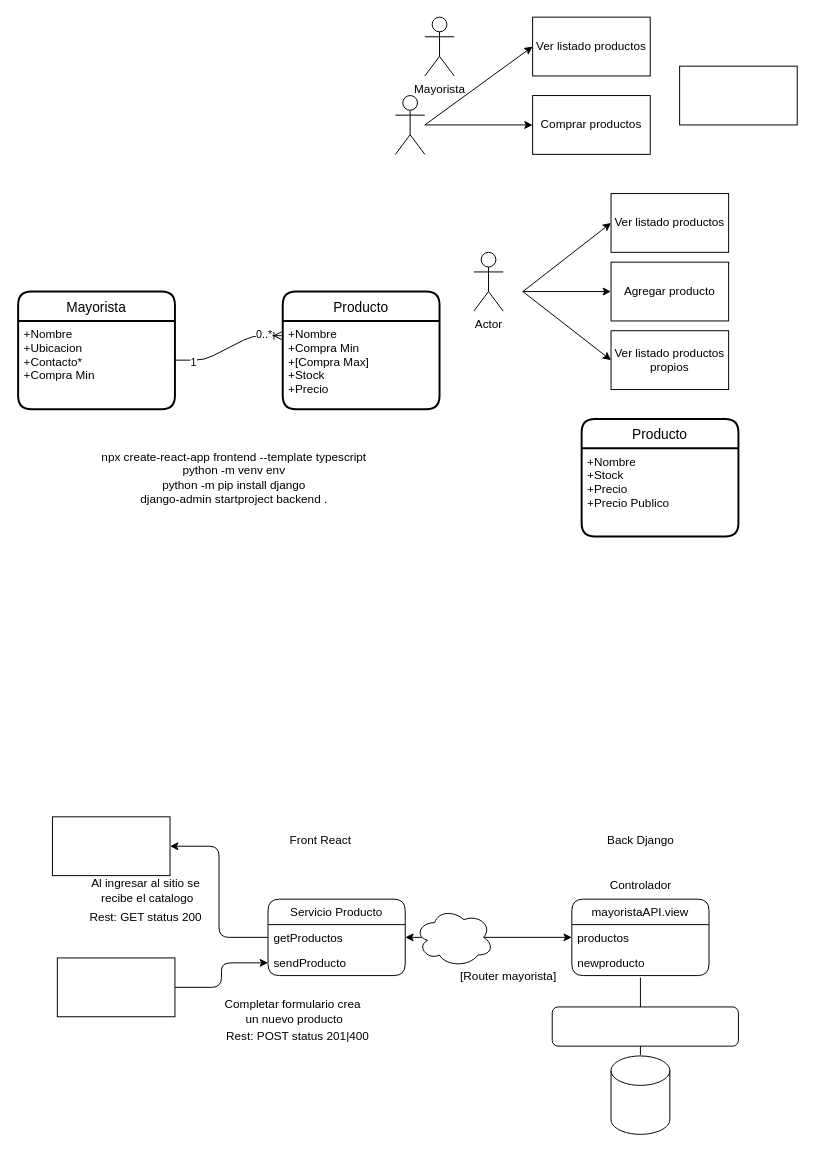
Image size: 814x1152. Some labels were removed from this diagram. Here are the shapes that lost their labels. From the top down, the centre of each, then its label:
the point at 738,95: Agregar en carrito
the point at 409,124: Minorista
the point at 110,846: Ver productos
the point at 115,987: Agrega producto
the point at 644,1026: mayoristaAPI. ProductoRepo
the point at 640,1094: Mongodb
